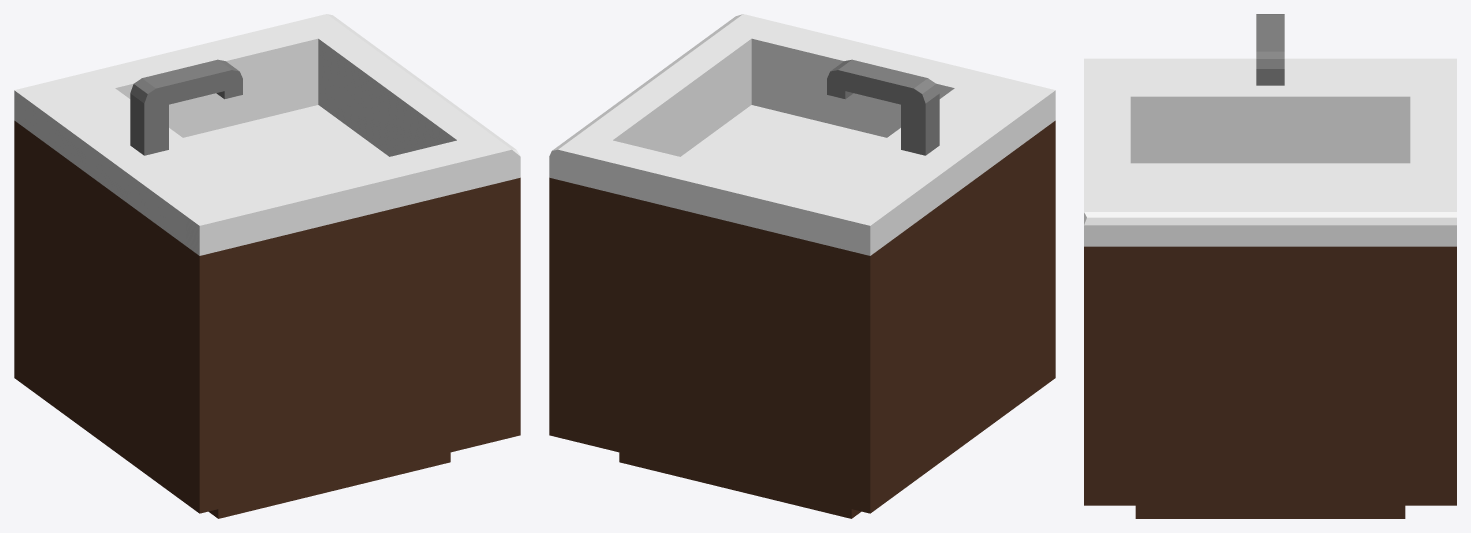
File: Sink.fbx
The picture shows the model from 3 angles, left to right: view 1: azimuth 30°, elevation 25°; view 2: azimuth 150°, elevation 25°; view 3: azimuth 270°, elevation 25°; orthographic projection.
Visible parts, largest first — view 1: Sink; view 2: Sink; view 3: Sink.
Part boxes in pixels (left/top/right/bottom): Sink: left=14, top=14, right=520, bottom=518; Sink: left=549, top=14, right=1055, bottom=518; Sink: left=1084, top=14, right=1456, bottom=518.
Size of the model in its own units: 85.22 by 98.16 by 85.22.
